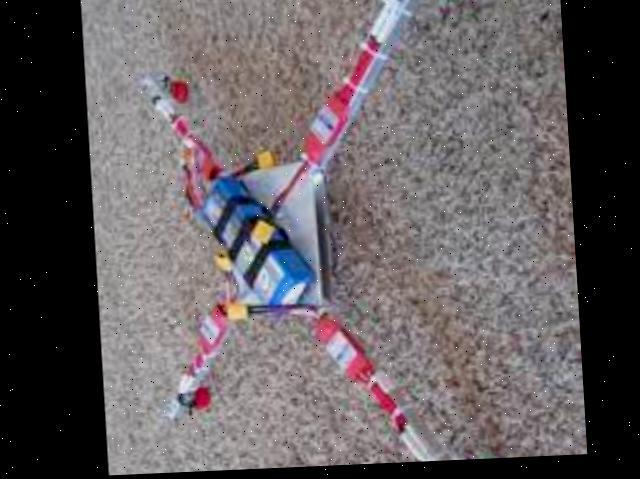drone: (125, 0, 546, 475)
